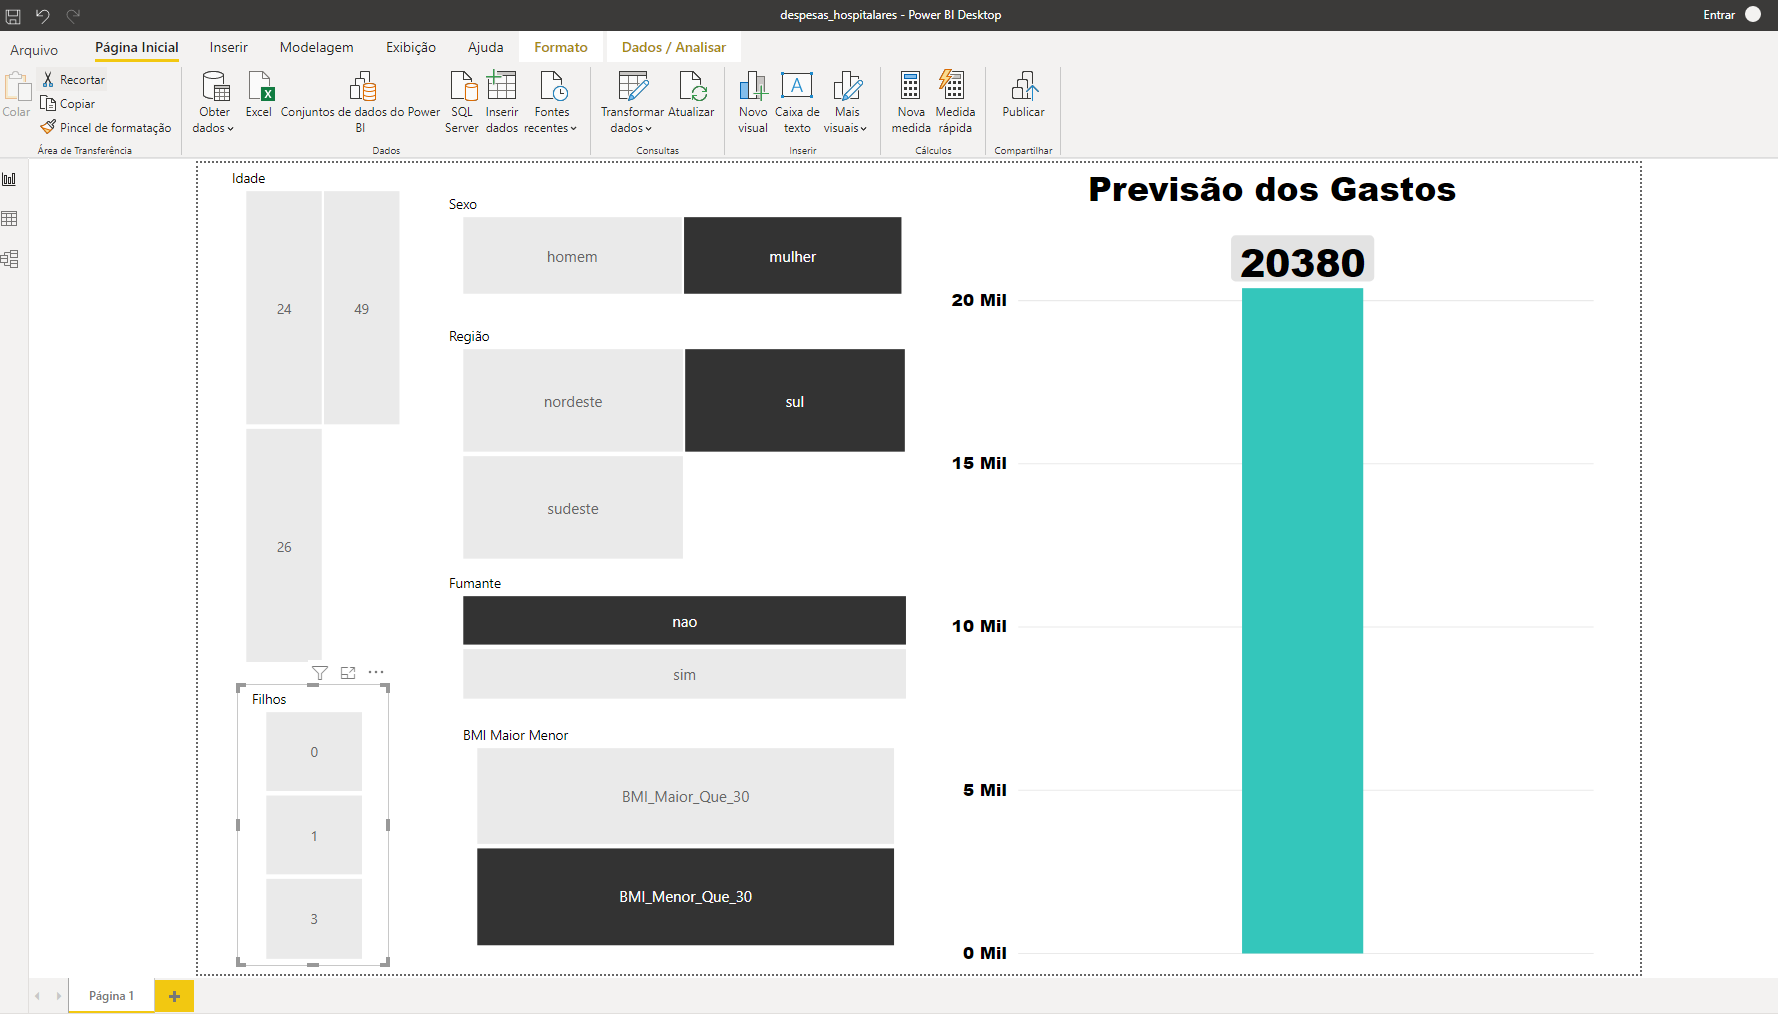

What the dashboard file says about the page in this screenshot:
{"tool":"powerbi","page":{"name":"Página 1","canvas":[1280,720],"ordinal":0},"visuals":[{"type":"clusteredColumnChart","fields":{"Y":["Sum(teste.prev)"]},"box":[663.6,1.4,581,717.2],"z":0},{"type":"slicer","fields":{"Values":["teste.idade"]},"box":[16.5,0,185.9,450.2],"z":1000},{"type":"slicer","fields":{"Values":["teste.filhos"]},"box":[34.4,462.6,134.9,250.6],"z":2000},{"type":"slicer","fields":{"Values":["teste.fumante"]},"box":[209.3,359.3,443.3,122.5],"z":3000},{"type":"slicer","fields":{"Values":["teste.regiao"]},"box":[209.3,140.4,441.9,217.5],"z":4000},{"type":"slicer","fields":{"Values":["teste.sexo"]},"box":[209.3,23.4,439.2,100.5],"z":5000},{"type":"slicer","fields":{"Values":["teste.BMI Maior Menor"]},"box":[221.6,494.2,419.9,206.5],"z":6000}]}

Visuals, with their boxes on the page's 1280x720 design canvas (x1, y1, x2, y2). These are canvas units, not pixel positions in the 1778x1014 screenshot, which may show the page scaled, cropped or inside an application window:
clusteredColumnChart - Sum(teste.prev): (664,1,1245,719)
slicer - teste.idade: (16,0,202,450)
slicer - teste.filhos: (34,463,169,713)
slicer - teste.fumante: (209,359,653,482)
slicer - teste.regiao: (209,140,651,358)
slicer - teste.sexo: (209,23,648,124)
slicer - teste.BMI Maior Menor: (222,494,642,701)
